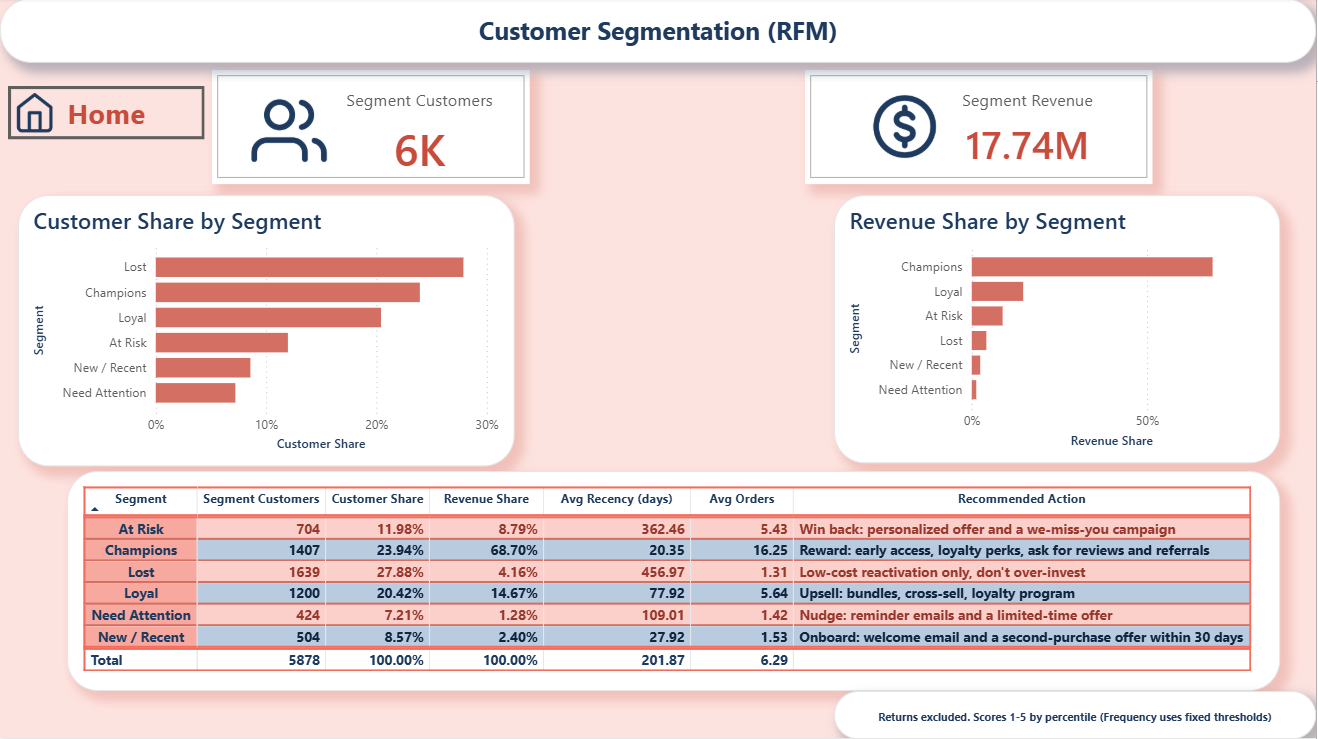

This screenshot's page, from the dashboard's own definition file:
{"tool":"powerbi","page":{"name":"RFM","canvas":[1280,720],"ordinal":2},"visuals":[{"type":"cardVisual","fields":{"Data":["RFM Customers.Segment Customers"]},"box":[206.3,70.2,309.1,110.6],"z":0},{"type":"cardVisual","fields":{"Data":["RFM Customers.Segment Revenue"]},"box":[783.2,70.2,338,110.6],"z":1000},{"type":"clusteredBarChart","fields":{"Category":["RFM Customers.Segment"],"Y":["RFM Customers.Customer Share"]},"box":[17.6,191.4,482.9,264.3],"z":2000},{"type":"clusteredBarChart","fields":{"Category":["RFM Customers.Segment"],"Y":["RFM Customers.Revenue Share"]},"box":[811.3,191.4,433.8,260.8],"z":3000},{"type":"tableEx","fields":{"Values":["RFM Customers.Segment","RFM Customers.Segment Customers","RFM Customers.Customer Share","RFM Customers.Revenue Share","RFM Customers.Avg Recency (days)","RFM Customers.Avg Orders","RFM Customers.Recommended Action"]},"box":[65,460.1,1180.1,214.2],"z":4000},{"type":"textbox","box":[0,0,1280.4,63],"z":5000},{"type":"textbox","box":[811.3,674.8,469.1,46.1],"z":6000},{"type":"actionButton","box":[7.9,85.2,191.4,51.8],"z":7000},{"type":"image","box":[7.9,85.2,52.7,51.8],"z":8000}]}

Visuals, with their boxes in screenshot pixels (x1, y1, x2, y2), scaled from the page's 1280x720 canvas onto the 1318x739 screenshot:
cardVisual - RFM Customers.Segment Customers: (left=212, top=72, right=531, bottom=186)
cardVisual - RFM Customers.Segment Revenue: (left=806, top=72, right=1154, bottom=186)
clusteredBarChart - RFM Customers.Segment x RFM Customers.Customer Share: (left=18, top=196, right=515, bottom=468)
clusteredBarChart - RFM Customers.Segment x RFM Customers.Revenue Share: (left=835, top=196, right=1282, bottom=464)
tableEx - RFM Customers.Segment x RFM Customers.Segment Customers: (left=67, top=472, right=1282, bottom=692)
textbox: (left=0, top=0, right=1317, bottom=65)
textbox: (left=835, top=693, right=1317, bottom=738)
actionButton: (left=8, top=87, right=205, bottom=141)
image: (left=8, top=87, right=62, bottom=141)
